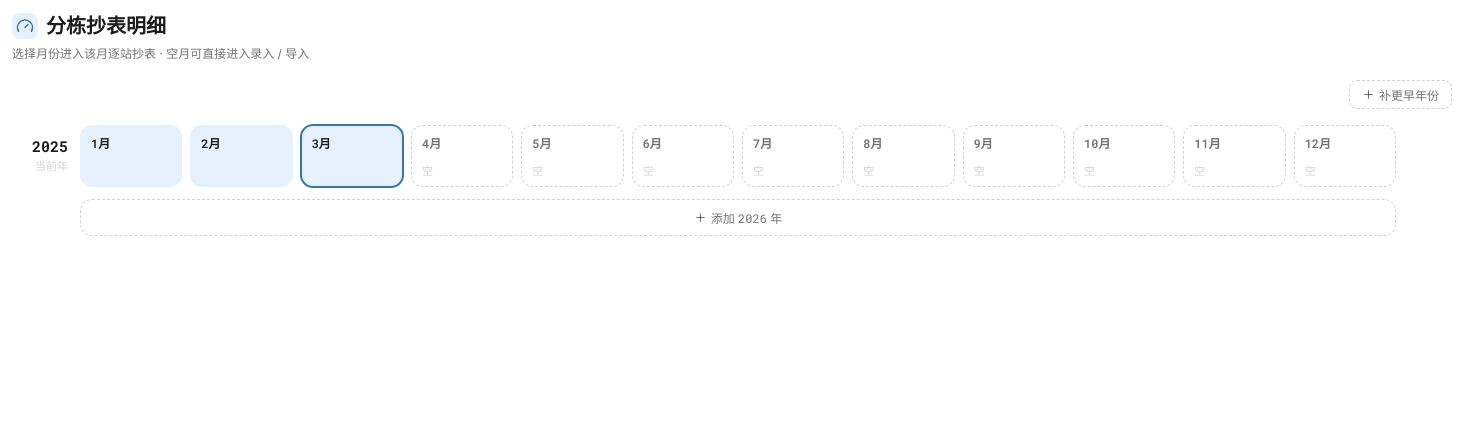
Test case: 光伏分栋抄表 · 选期动线 › 点月格 → 落表格，拉的是那个月
Step 1. Click the button with class "bmm-card" showing "3月" → (352, 156), box [301,125,403,187]
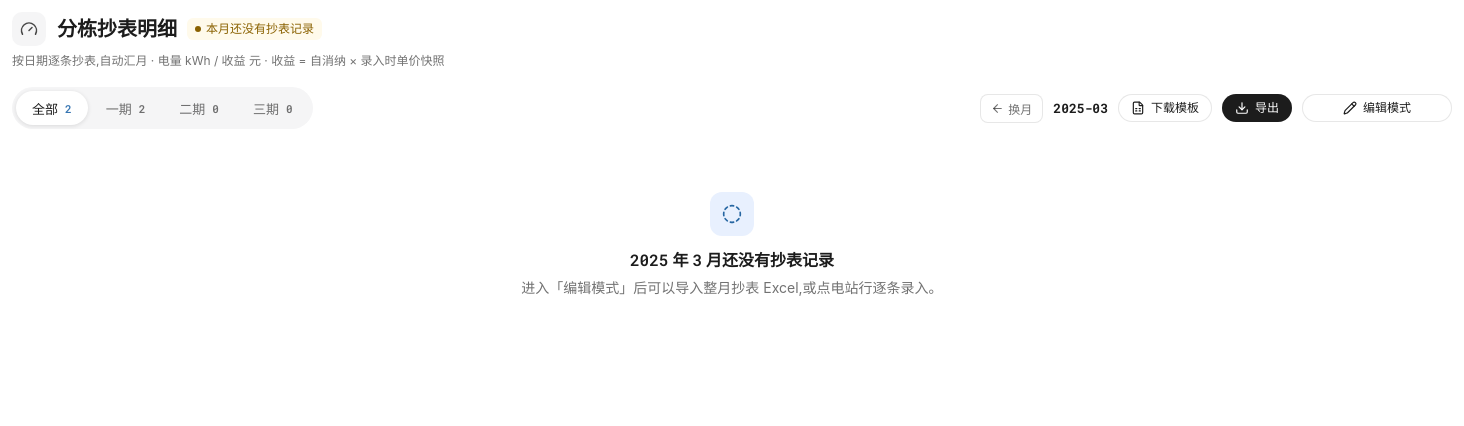
Check: the element that starts with "分栋抄表明细" is shown
